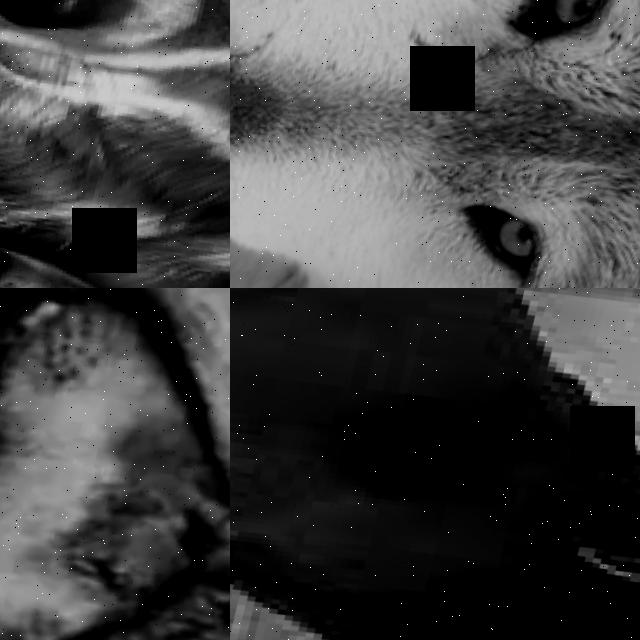dog: (230, 288, 640, 640), (295, 288, 640, 431)
wolf: (230, 0, 640, 288), (0, 288, 230, 640), (0, 288, 230, 635), (0, 0, 230, 288), (0, 169, 230, 288)
